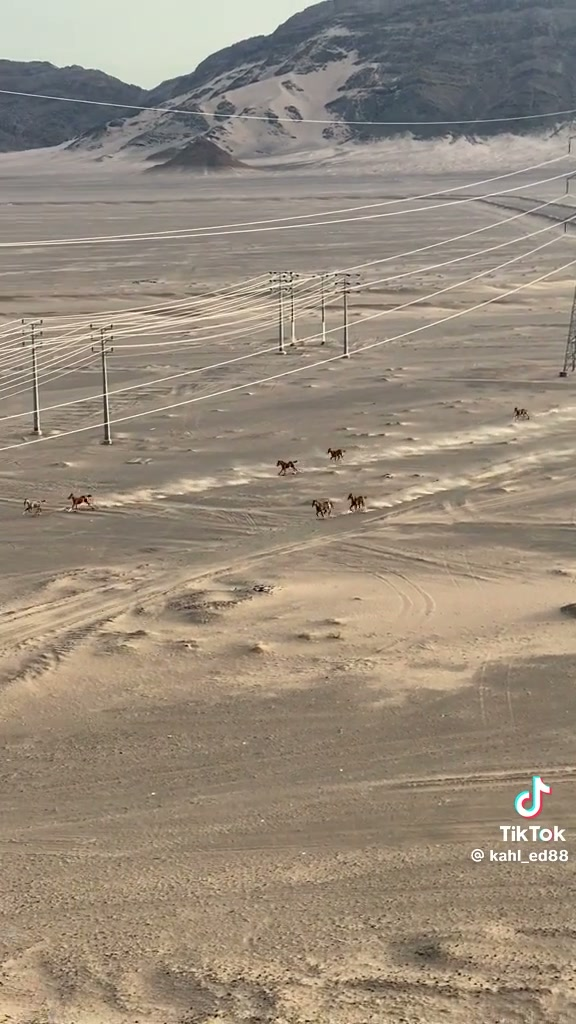animal: (68, 493, 93, 510), (312, 499, 333, 517), (23, 498, 44, 514), (276, 459, 297, 474), (347, 493, 365, 510), (327, 447, 344, 461), (514, 408, 528, 419)
vehicle_track: (0, 495, 435, 652), (0, 618, 107, 686)
